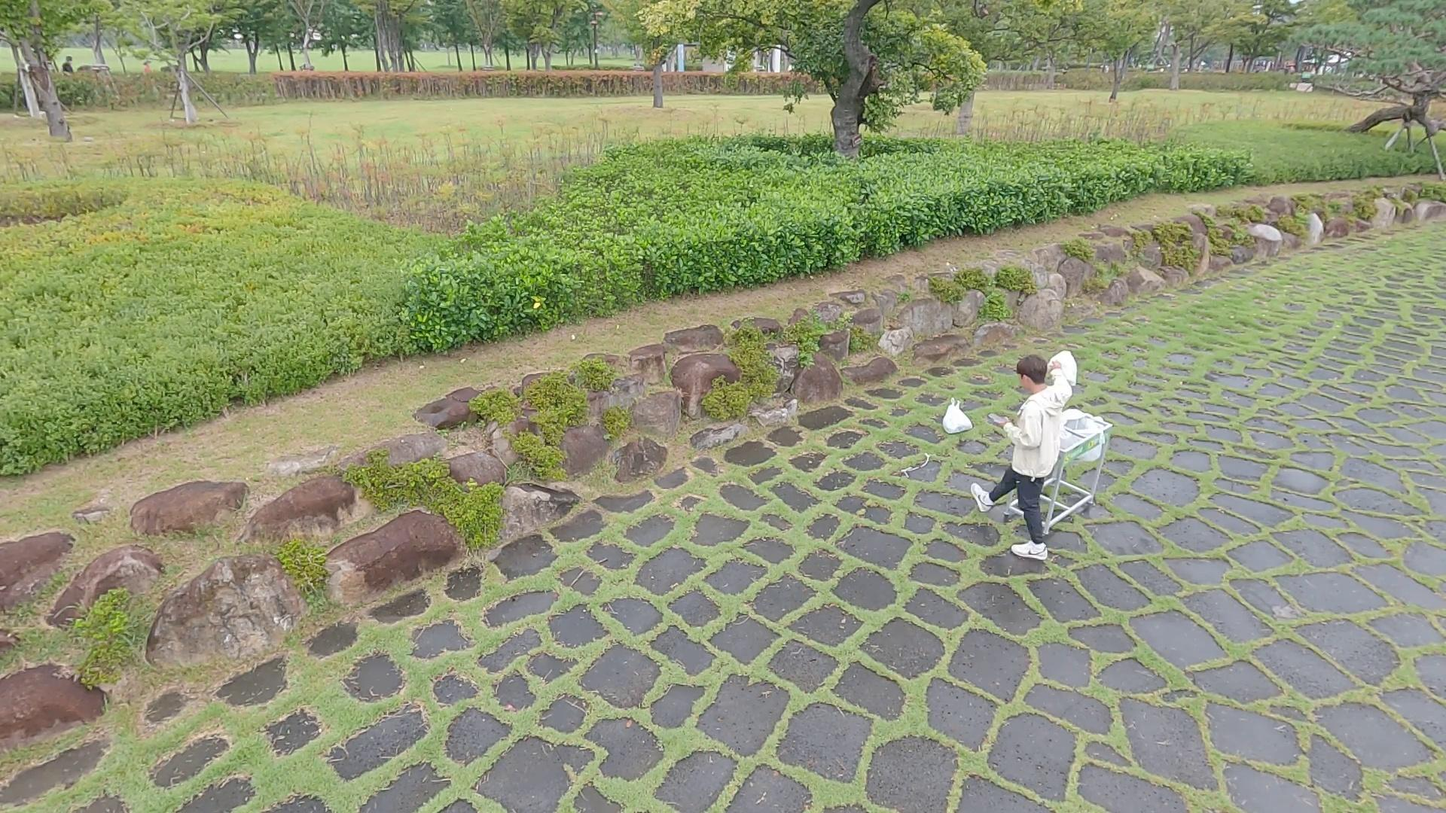person: (970, 353, 1073, 564)
trash: (942, 397, 974, 435), (1048, 350, 1079, 386)
